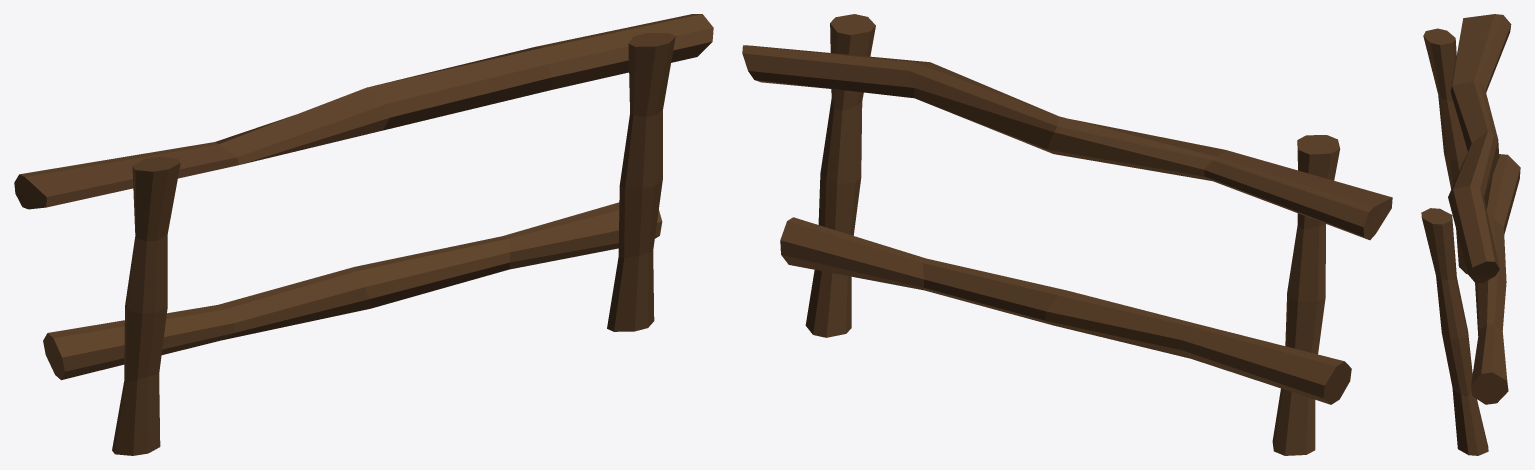
The model's file is woodenFence_03.fbx.
3 views of the same model, side by side, from view 1: azimuth 30°, elevation 25°; view 2: azimuth 150°, elevation 25°; view 3: azimuth 270°, elevation 25° (orthographic). The views are drawn at different scales.
Visible parts, largest first — view 1: wooden fence.021; view 2: wooden fence.021; view 3: wooden fence.021.
Boxes of the visible parts, <box> form: wooden fence.021: <box>14,14,713,455</box>; wooden fence.021: <box>742,14,1392,455</box>; wooden fence.021: <box>1421,14,1520,455</box>.
Bounding box in the file's own units: 1544 × 682 × 259.
